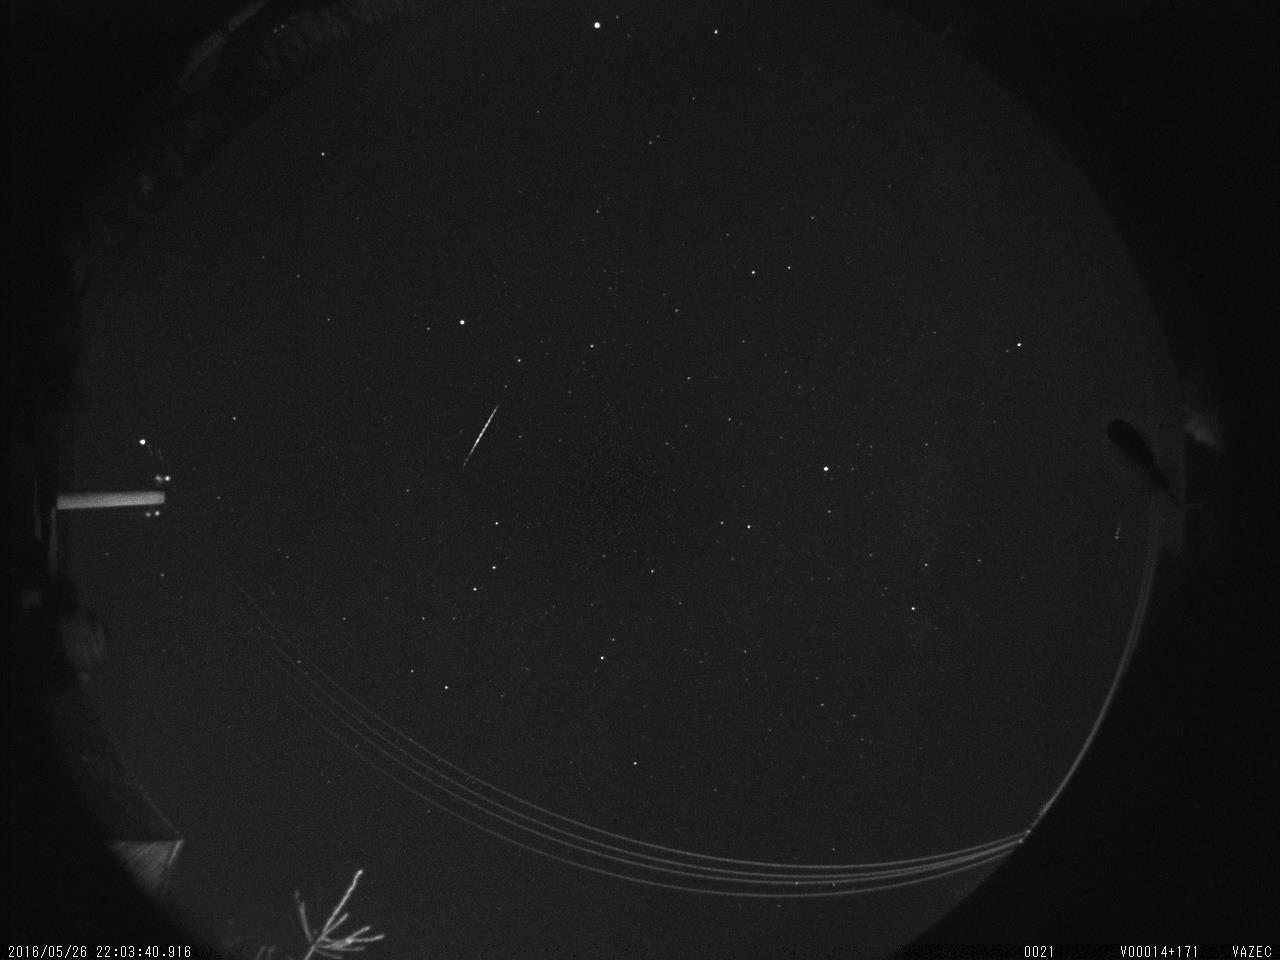meteor: (441, 385, 515, 483)
